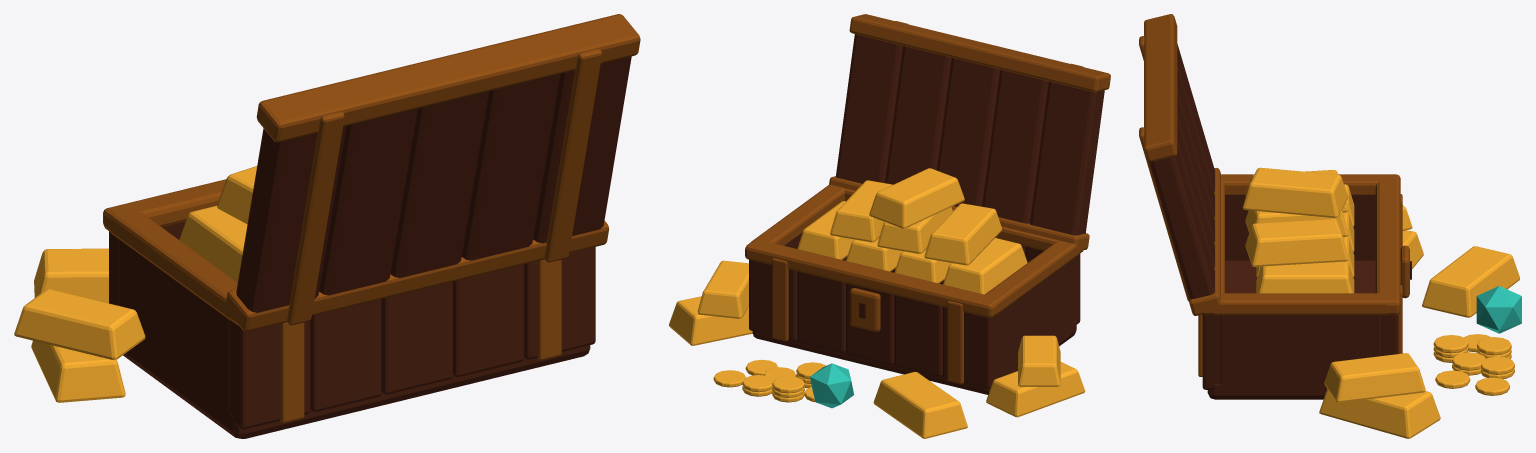
The model's file is GoldCache.obj.
The picture shows the model from 3 angles, left to right: view 1: azimuth 30°, elevation 25°; view 2: azimuth 150°, elevation 25°; view 3: azimuth 270°, elevation 25°; orthographic projection. The views are drawn at different scales.
Visible parts, largest first — view 1: GoldCache; view 2: GoldCache; view 3: GoldCache.
Part boxes in pixels (<box>): GoldCache: <box>14,14,640,438</box>; GoldCache: <box>669,14,1110,438</box>; GoldCache: <box>1139,14,1521,438</box>.
Bounding box in the file's own units: 2.83 × 1.75 × 2.31.
